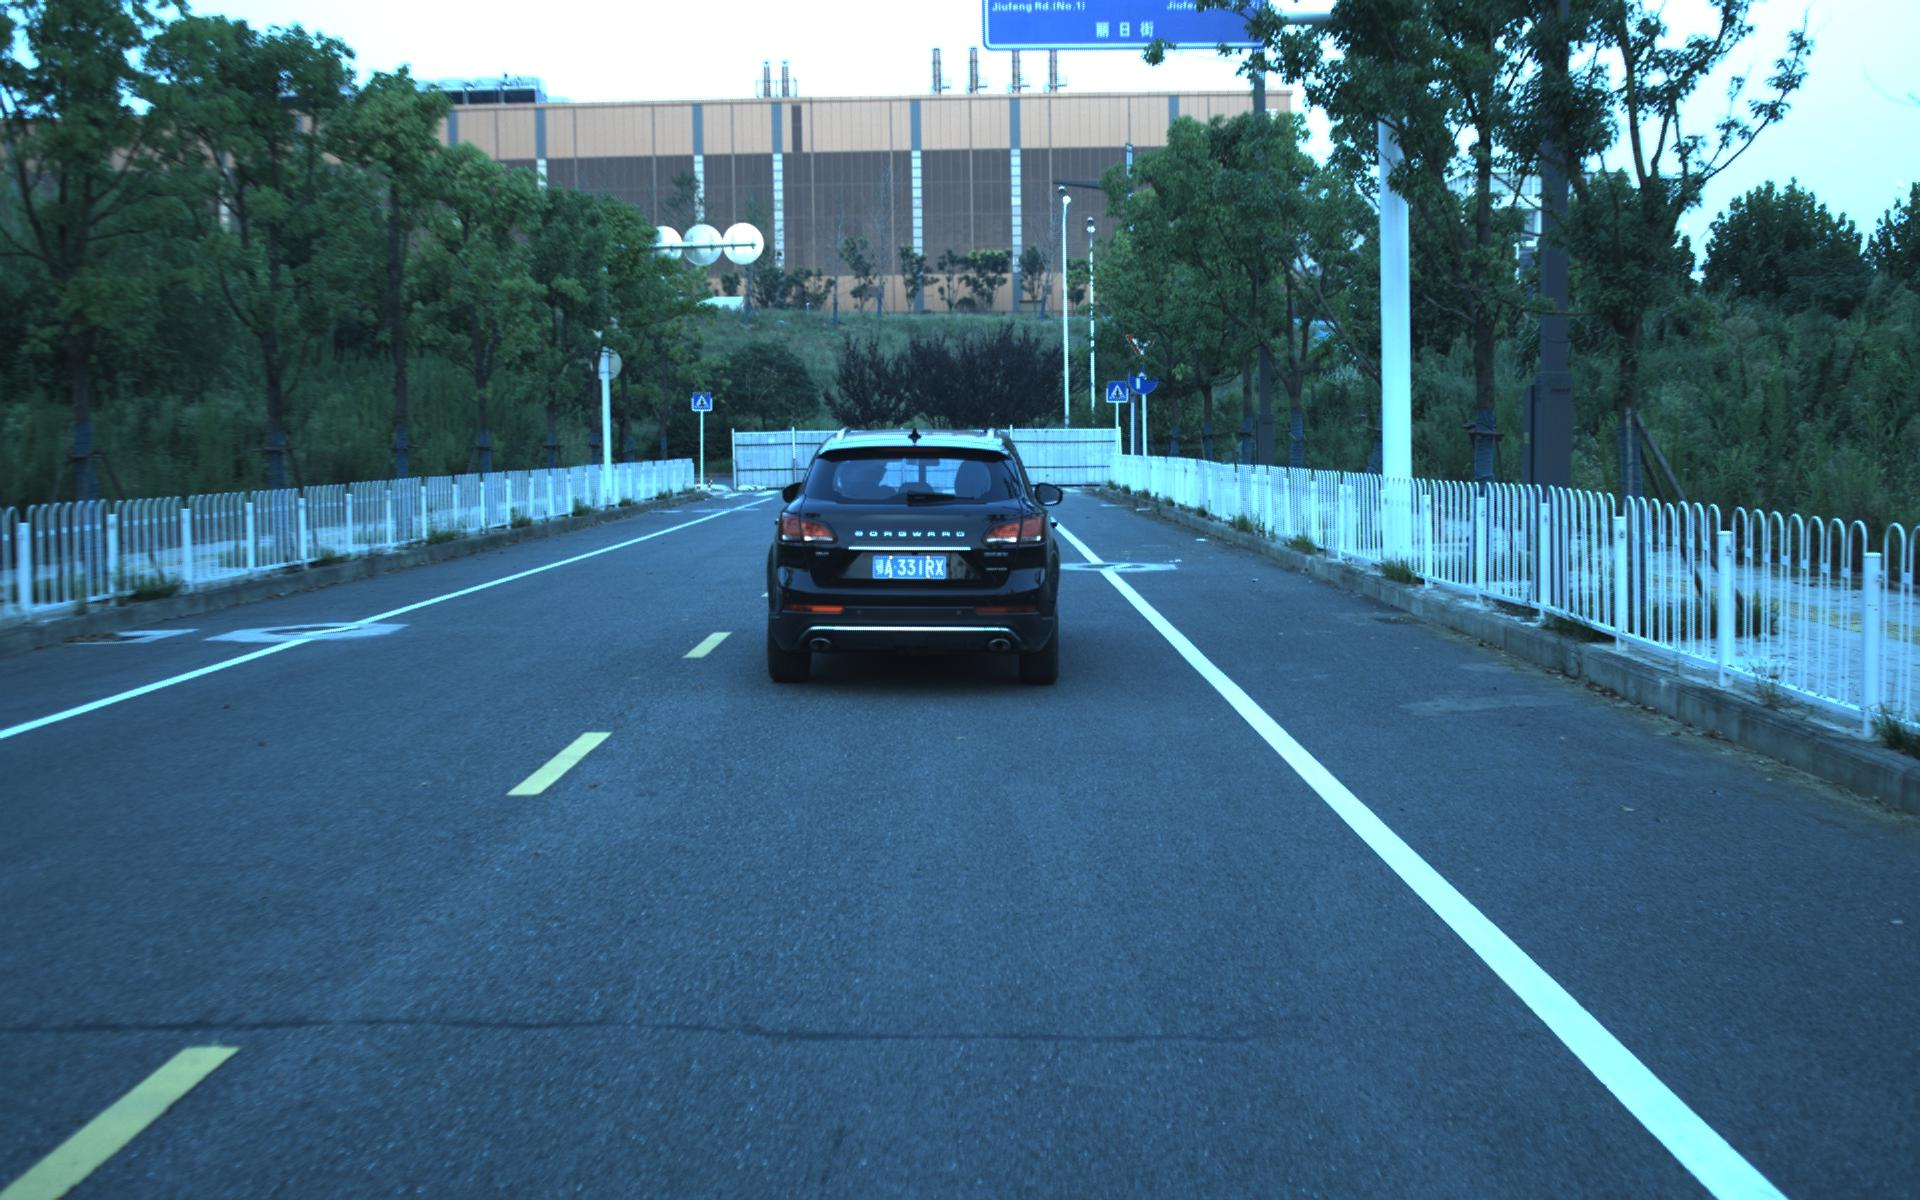Car: (764, 422, 1062, 686)
